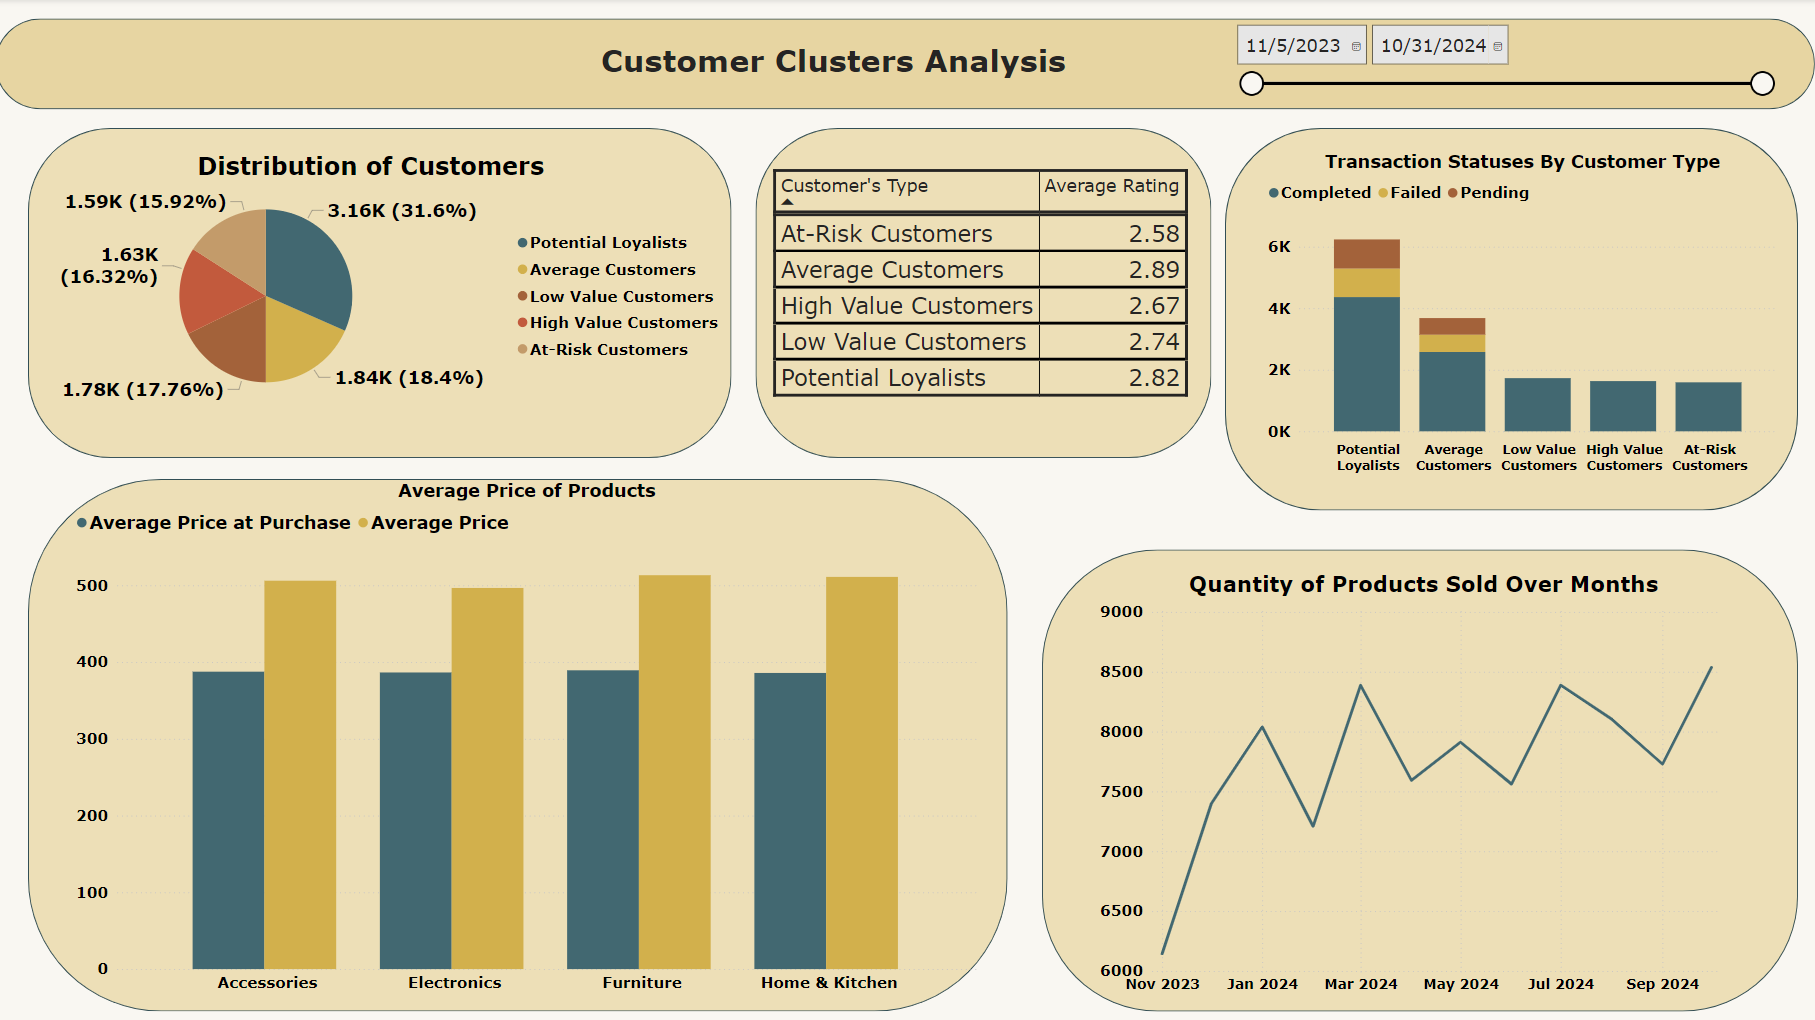

Layout of this report page (visuals, bound fields, positions):
{"tool":"powerbi","page":{"name":"E-Shop","canvas":[1920,1080],"ordinal":0},"visuals":[{"type":"shape","box":[1104.1,580.8,797.8,486.7],"z":0},{"type":"shape","box":[1297.3,136.1,604.3,403.4],"z":1000},{"type":"shape","box":[802.1,136.1,480.9,348.1],"z":2000},{"type":"shape","box":[34.8,136.1,742,348.1],"z":3000},{"type":"shape","box":[0,20.7,1919.5,95.7],"z":4000},{"type":"shape","box":[34.8,506.3,1033.1,561.6],"z":5000},{"type":"pieChart","title":"Distribution of Customers","fields":{"Y":["CountNonNull(clustered_df.customer_id)"],"Category":["clustered_df.Customer_Type"]},"box":[15.8,159.8,761,275.3],"z":6000},{"type":"tableEx","fields":{"Values":["clustered_df.Customer_Type","Avg(reviews.rating)"]},"box":[814.8,174,468.3,270.5],"z":7000},{"type":"clusteredColumnChart","title":"Average Price of Products","fields":{"Category":["products.category","products.product_name"],"Y":["Avg(order_items.price_at_purchase)","Avg(products.price)"]},"box":[79.1,506.3,963.5,550.6],"z":8000},{"type":"lineChart","title":"Quantity of Products Sold Over Months","fields":{"Category":["orders.order_date.Variation.Date Hierarchy.Year","orders.order_date.Variation.Date Hierarchy.Month"],"Y":["Sum(order_items.quantity)"]},"box":[1159.6,602.8,724.6,454],"z":9000},{"type":"slicer","fields":{"Values":["orders.order_date"]},"box":[1296.6,18.2,588.4,98.1],"z":10000},{"type":"textbox","box":[498.3,39.6,772,58.5],"z":11000},{"type":"columnChart","title":"Transaction Statuses By Customer Type","fields":{"Category":["clustered_df.Customer_Type"],"Y":["CountNonNull(payment.transaction_status)"],"Series":["payment.transaction_status"]},"box":[1336.5,159.8,548.4,346.8],"z":12000}]}

Visuals, with their boxes in screenshot pixels (x1, y1, x2, y2), scaled from the page's 1920x1080 canvas onto the 1815x1020 screenshot:
shape: box=[1044, 549, 1798, 1008]
shape: box=[1226, 129, 1798, 510]
shape: box=[758, 129, 1213, 457]
shape: box=[33, 129, 734, 457]
shape: box=[0, 20, 1814, 110]
shape: box=[33, 478, 1009, 1009]
"Distribution of Customers" pieChart: box=[15, 151, 734, 411]
tableEx - clustered_df.Customer_Type x Avg(reviews.rating): box=[770, 164, 1213, 420]
"Average Price of Products" clusteredColumnChart: box=[75, 478, 986, 998]
"Quantity of Products Sold Over Months" lineChart: box=[1096, 569, 1781, 998]
slicer - orders.order_date: box=[1226, 17, 1782, 110]
textbox: box=[471, 37, 1201, 93]
"Transaction Statuses By Customer Type" columnChart: box=[1263, 151, 1782, 478]
